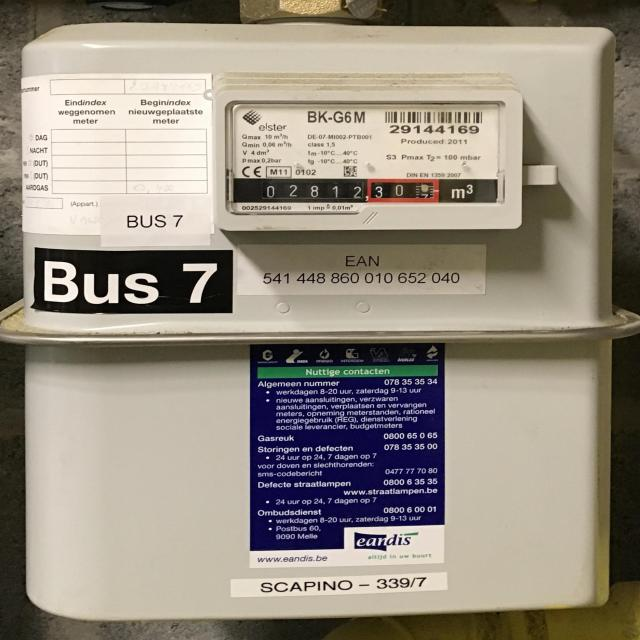gaz_meter: (225, 97, 507, 209)
indication: (233, 177, 440, 204)
